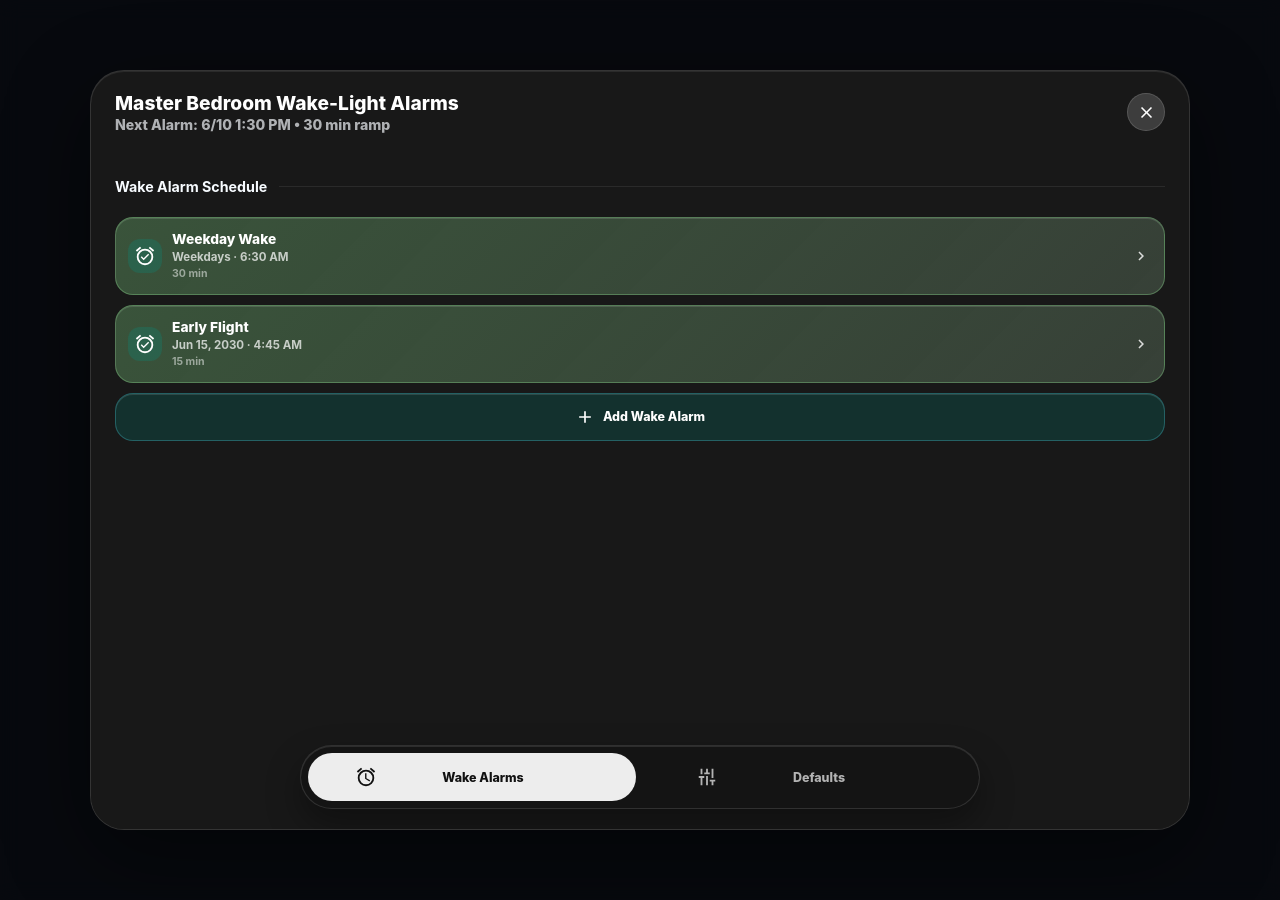
Test case: WakeLightModalContent › cross-bed wake alarm creation › renders Light Ramp Duration as a separator in the alarm editor
The image size is (1280, 900).
Step 1. Click the button "Add Wake Alarm" → click(640, 417), box [115,393,1165,441]
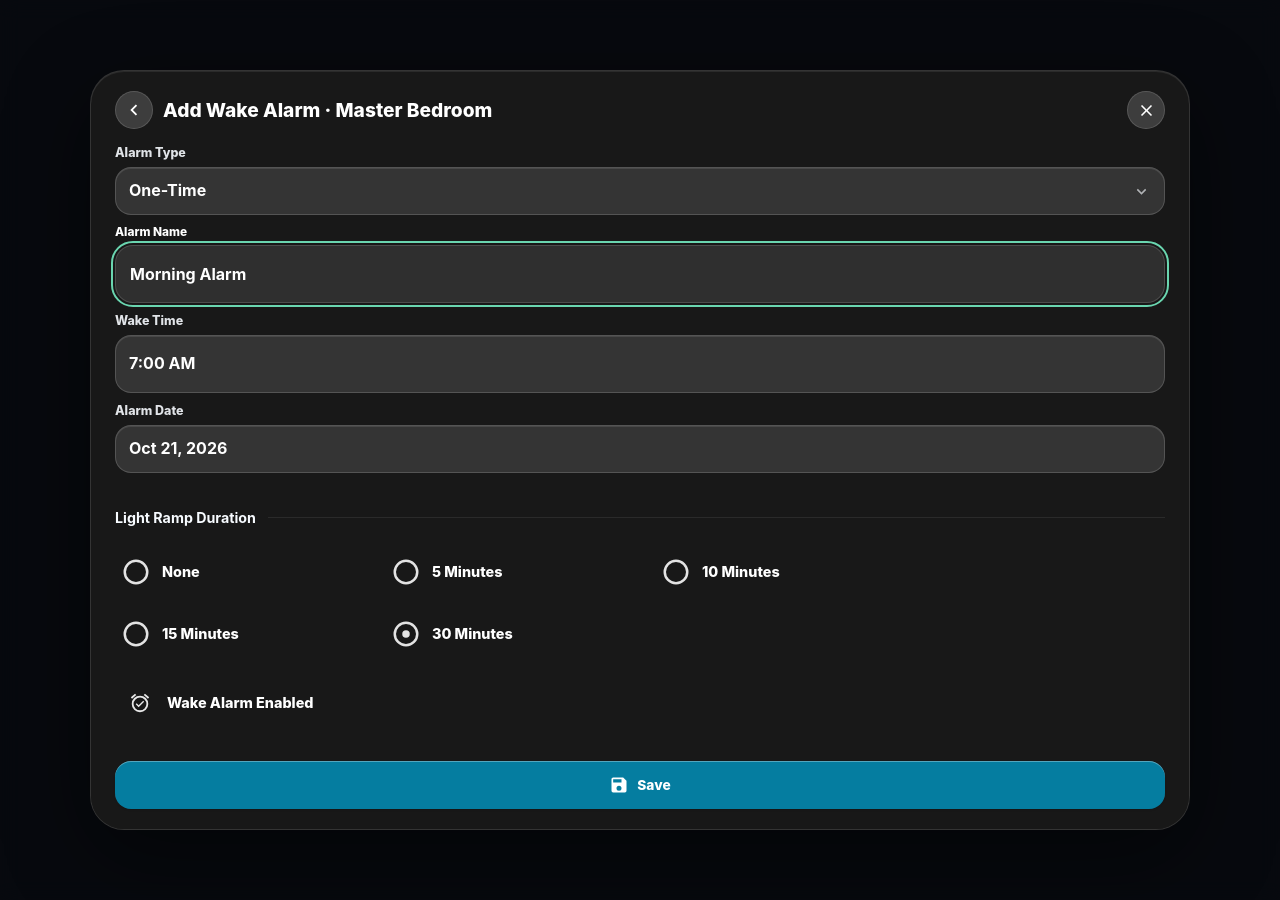
Result: the element named "Light Ramp Duration" is shown at [115,546,915,660]
